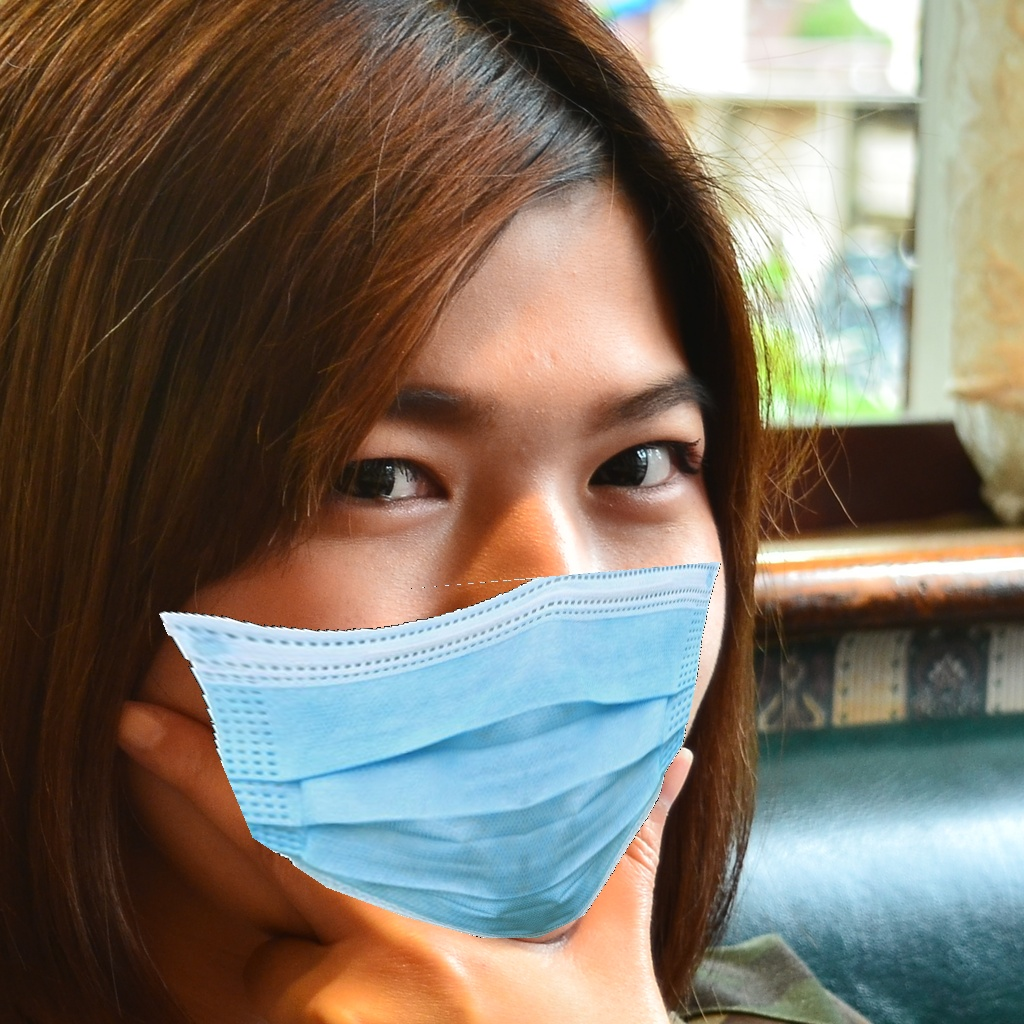with_mask: (215, 350, 737, 968)
